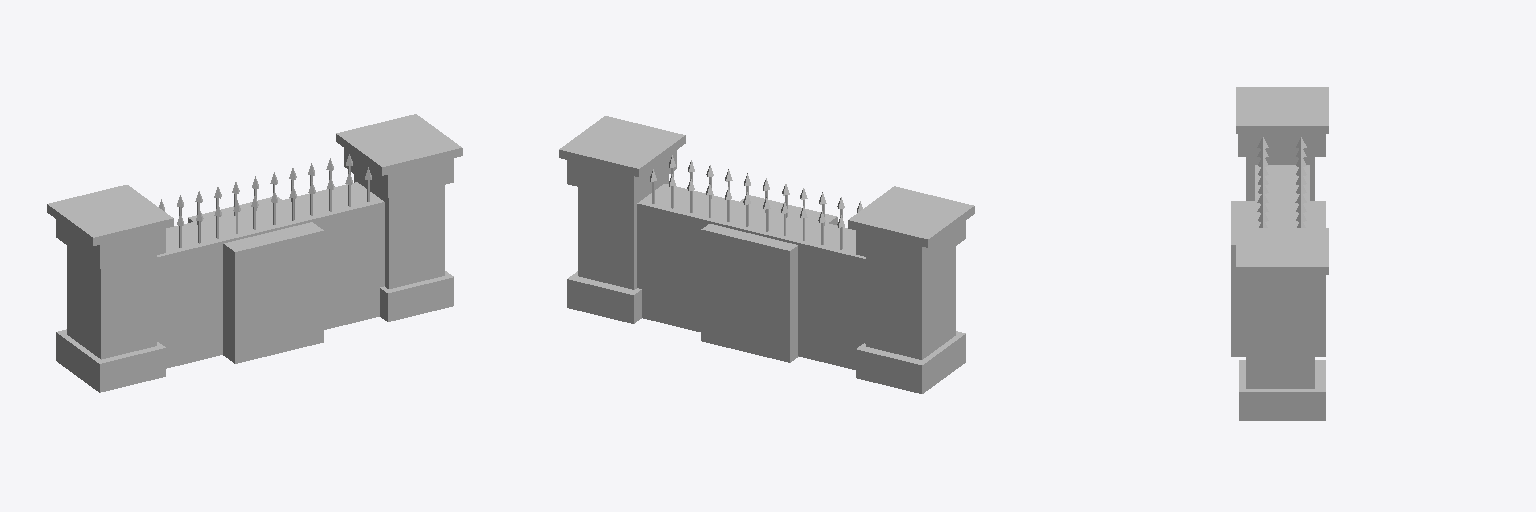
The model's file is fortress3.obj.
3 views of the same model, side by side, from view 1: azimuth 30°, elevation 25°; view 2: azimuth 150°, elevation 25°; view 3: azimuth 270°, elevation 25° (orthographic).
Visible parts, largest first — view 1: polySurface309; view 2: polySurface309; view 3: polySurface309.
Part boxes in pixels (x1,y1,x2,y2): polySurface309: (47, 114, 462, 392); polySurface309: (559, 116, 974, 393); polySurface309: (1231, 87, 1328, 420).
Size of the model in its own units: 59.1 by 24.24 by 13.53.